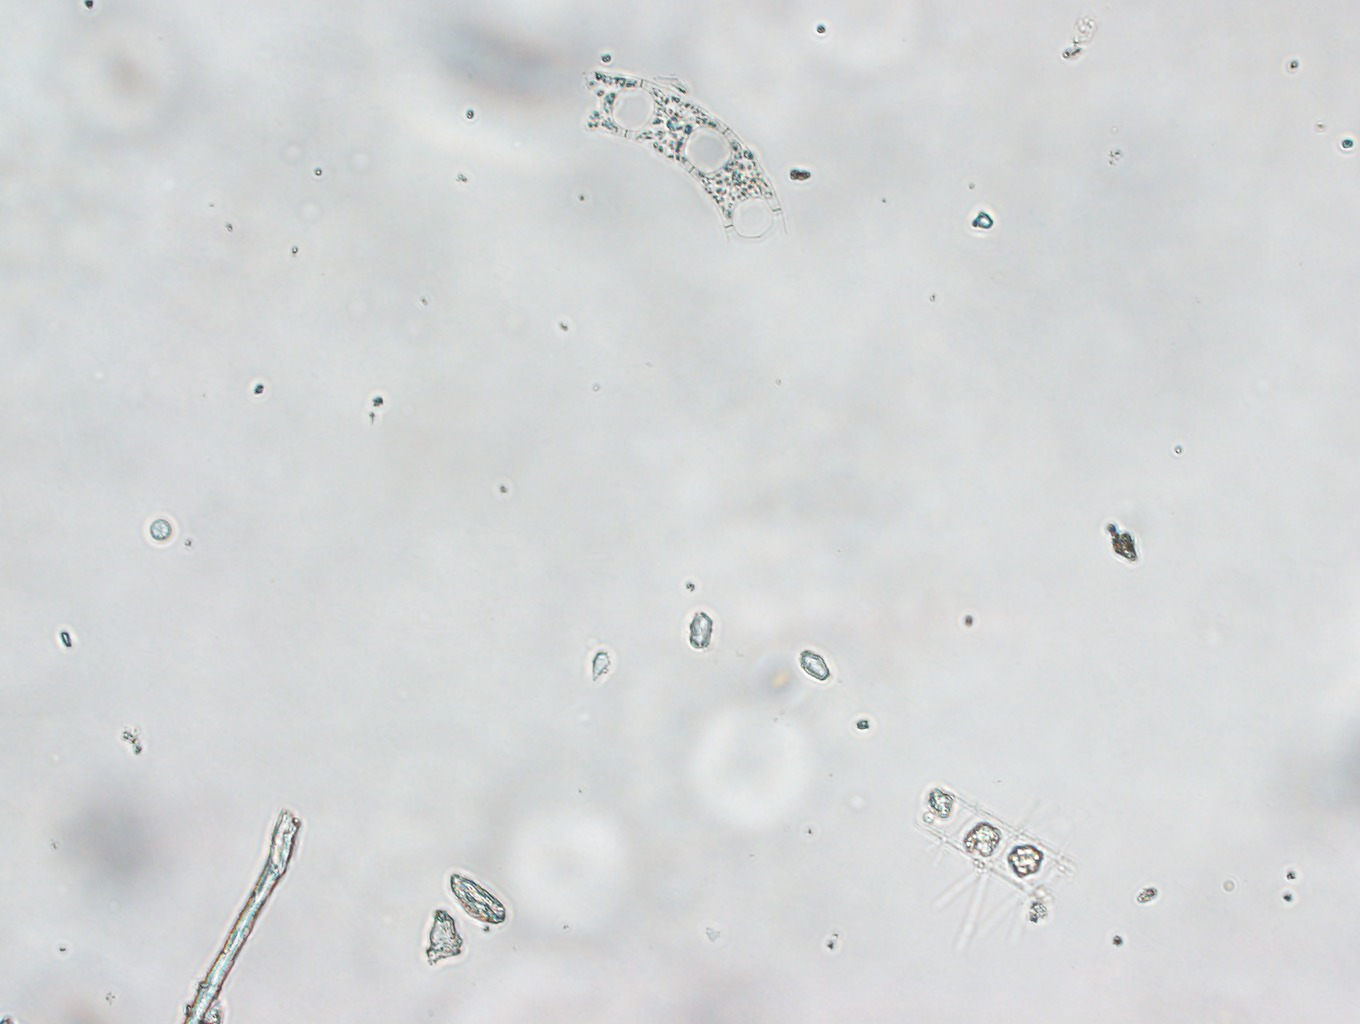chaetoceros: (891, 766, 1099, 925)
eucampia: (579, 55, 792, 250)
